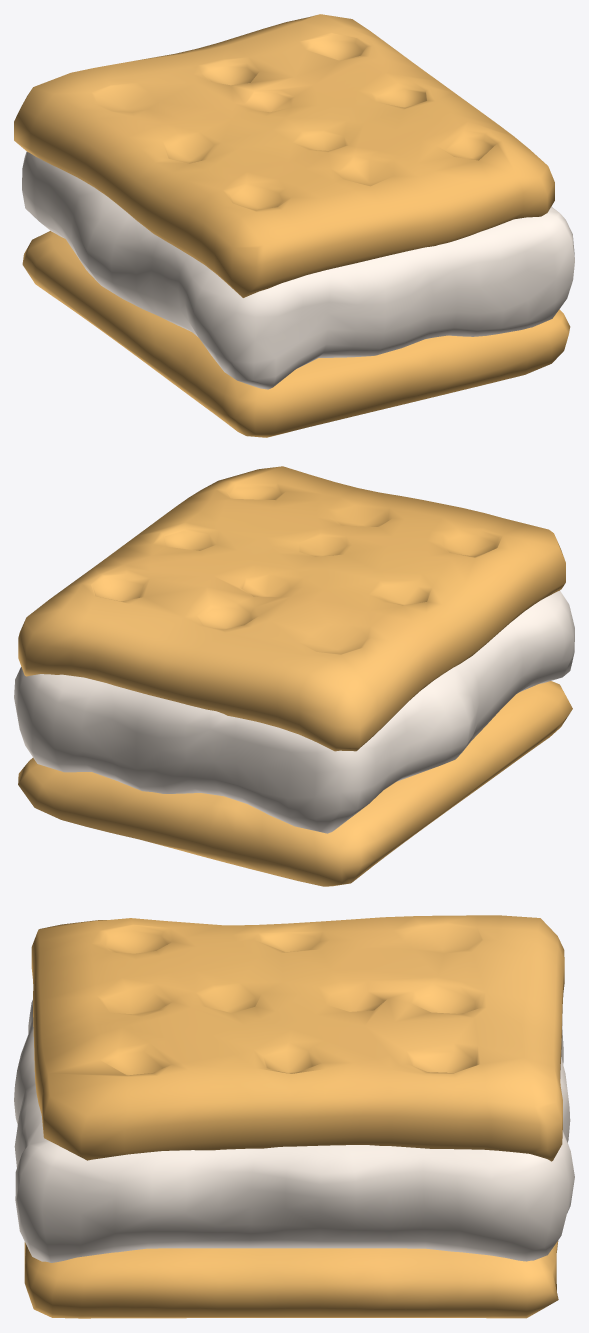
Rendered from IceCream_0001_0023.fbx.
3 renders of one model, top to bottom at view 1: azimuth 30°, elevation 25°; view 2: azimuth 150°, elevation 25°; view 3: azimuth 270°, elevation 25°, orthographic. The views are drawn at different scales.
Parts seen in each view (by area): view 1: Ice_0001_0023; view 2: Ice_0001_0023; view 3: Ice_0001_0023.
Part boxes in pixels (left/top/right/bottom): Ice_0001_0023: left=14, top=14, right=574, bottom=437; Ice_0001_0023: left=14, top=466, right=574, bottom=886; Ice_0001_0023: left=14, top=915, right=574, bottom=1318.
Bounding box in the file's own units: 0.1262 × 0.0676 × 0.1413.
Materials: 1 (1 with a texture image).
